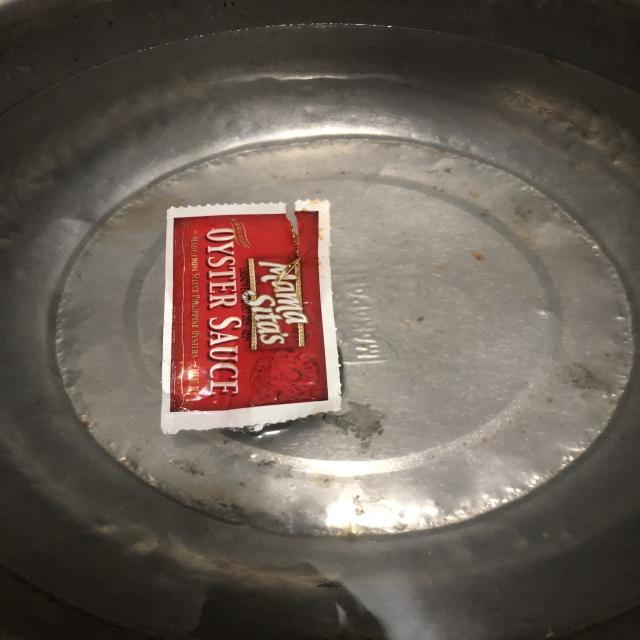Plastic Wrapper: (127, 181, 389, 454)
